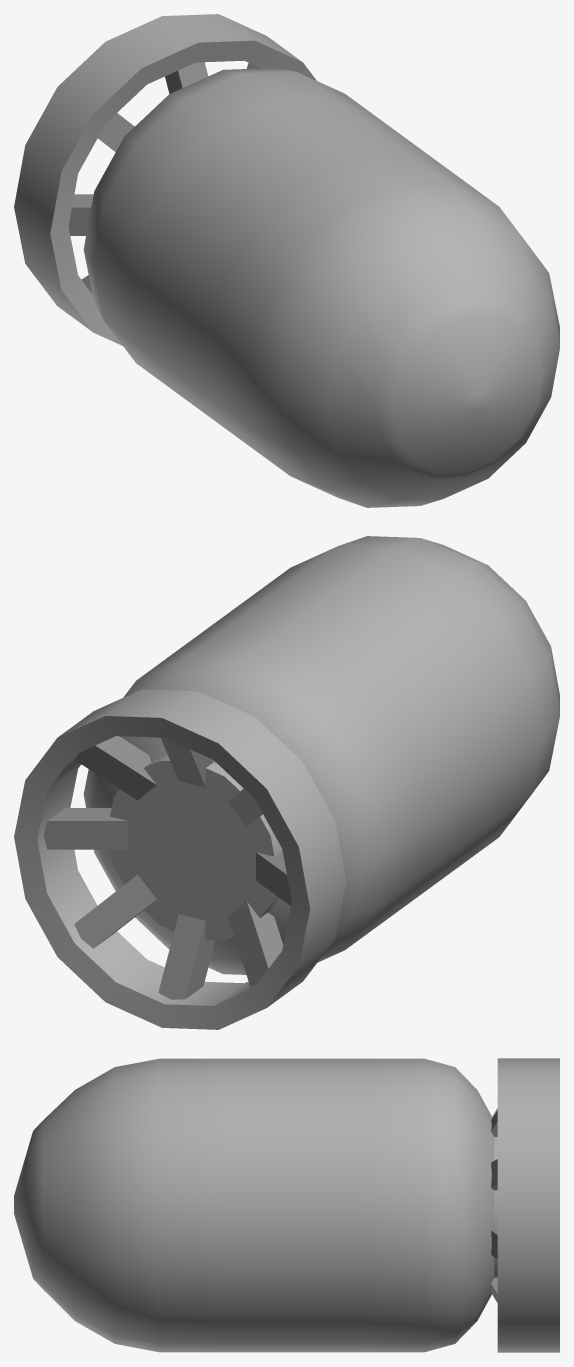
The model's file is depth_charge.fbx.
3 views of the same model, one above another, from view 1: azimuth 30°, elevation 25°; view 2: azimuth 150°, elevation 25°; view 3: azimuth 270°, elevation 25° (orthographic). The views are drawn at different scales.
Parts seen in each view (by area): view 1: Central, Ring, Struts; view 2: Central, Ring, Struts; view 3: Central, Ring, Struts.
Boxes of the visible parts, x1=… form: Central: x1=83, y1=68, x2=559, y2=507; Ring: x1=14, y1=14, x2=316, y2=345; Struts: x1=68, y1=62, x2=260, y2=293; Central: x1=83, y1=536, x2=559, y2=974; Ring: x1=14, y1=689, x2=346, y2=1029; Struts: x1=43, y1=736, x2=291, y2=999; Central: x1=14, y1=1058, x2=497, y2=1352; Ring: x1=497, y1=1058, x2=559, y2=1352; Struts: x1=491, y1=1108, x2=497, y2=1302.
Size of the model in its own units: 174 by 174 by 322.
